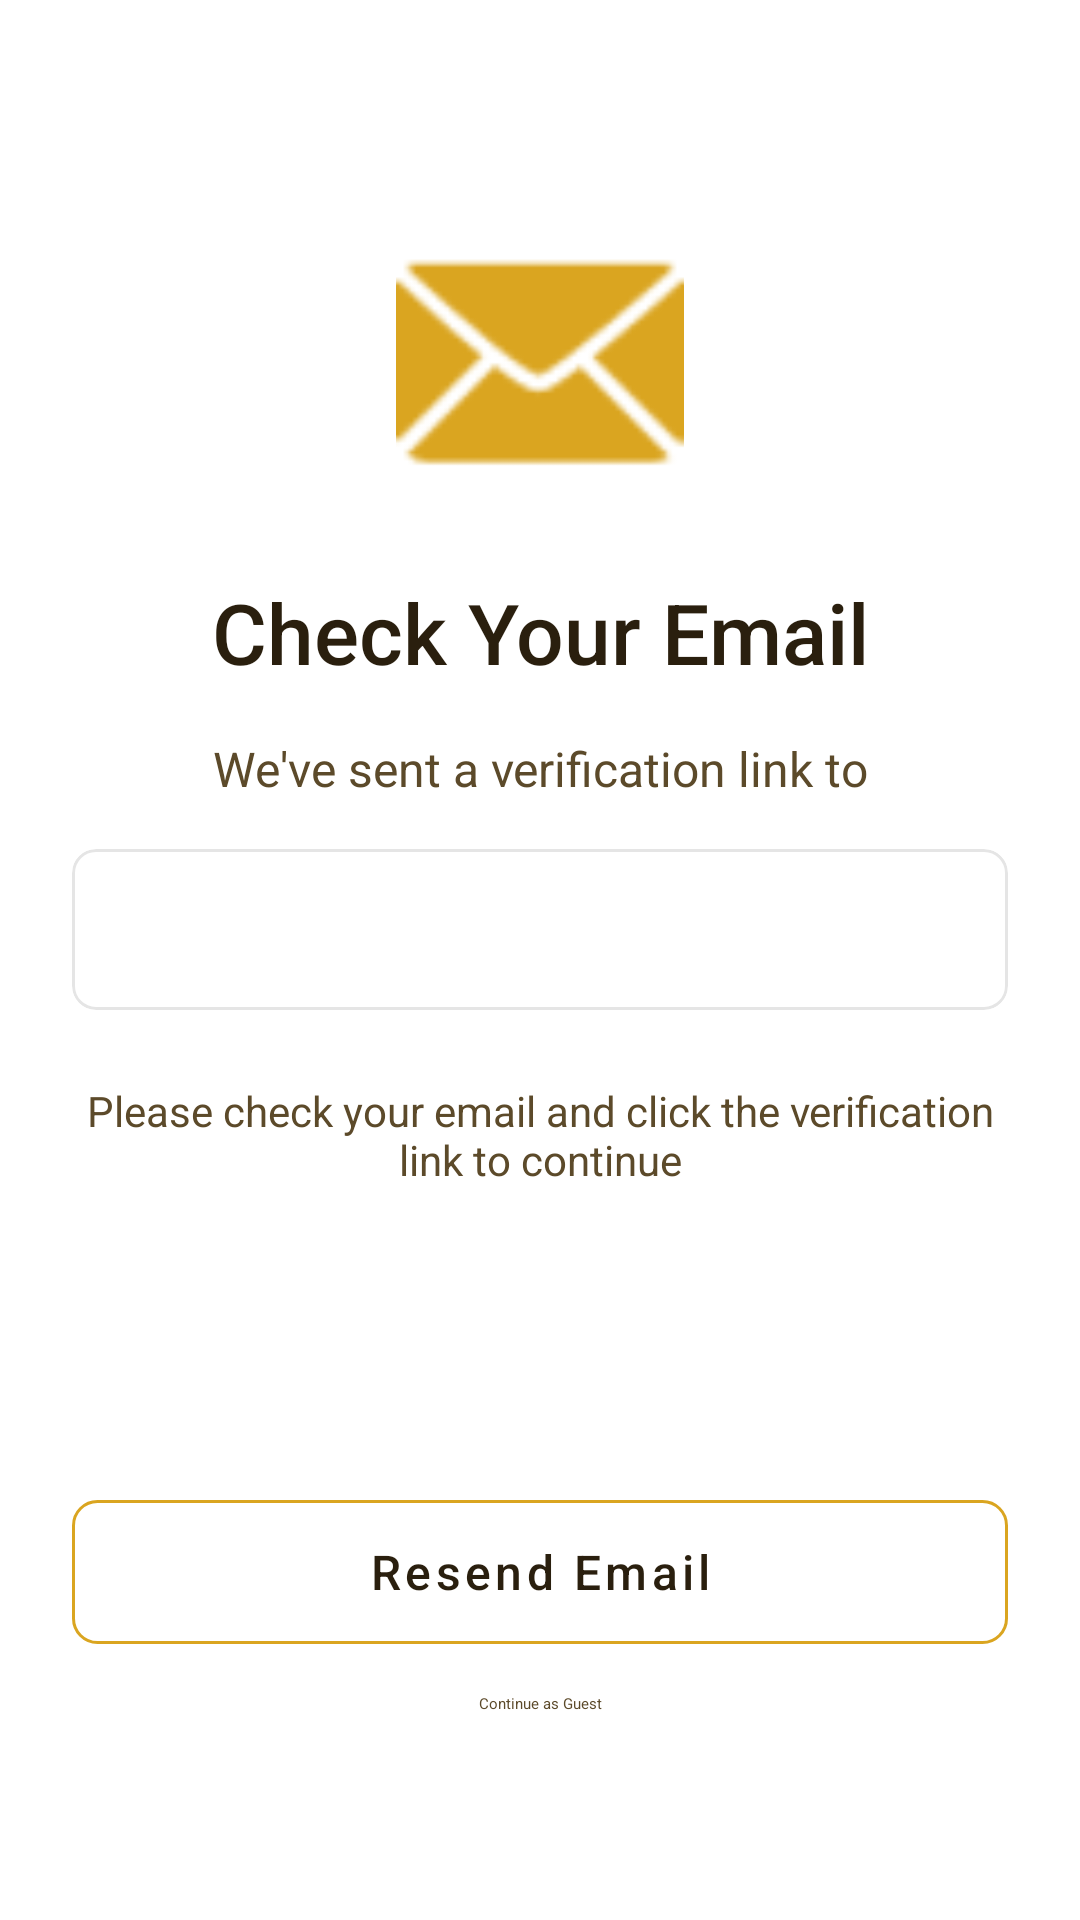

Icons on this 1080*1920 Android screen, each with the point to tap as point (x, y):
Email verification icon: point (540, 362)
